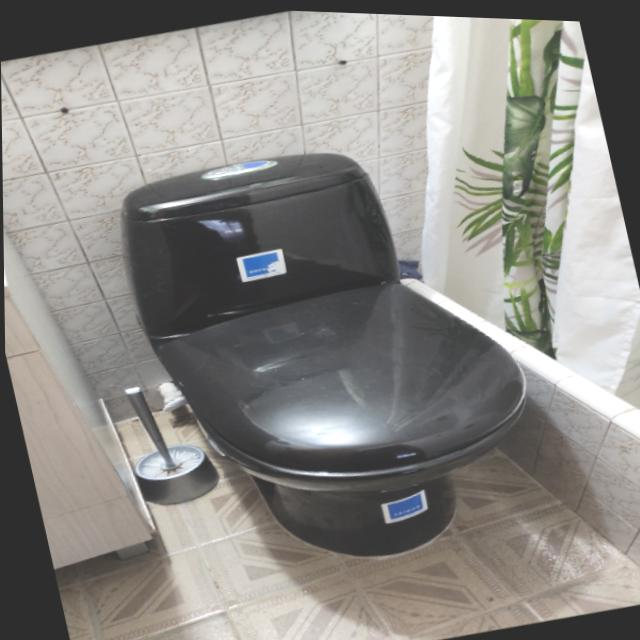toilet: (106, 107, 558, 600)
